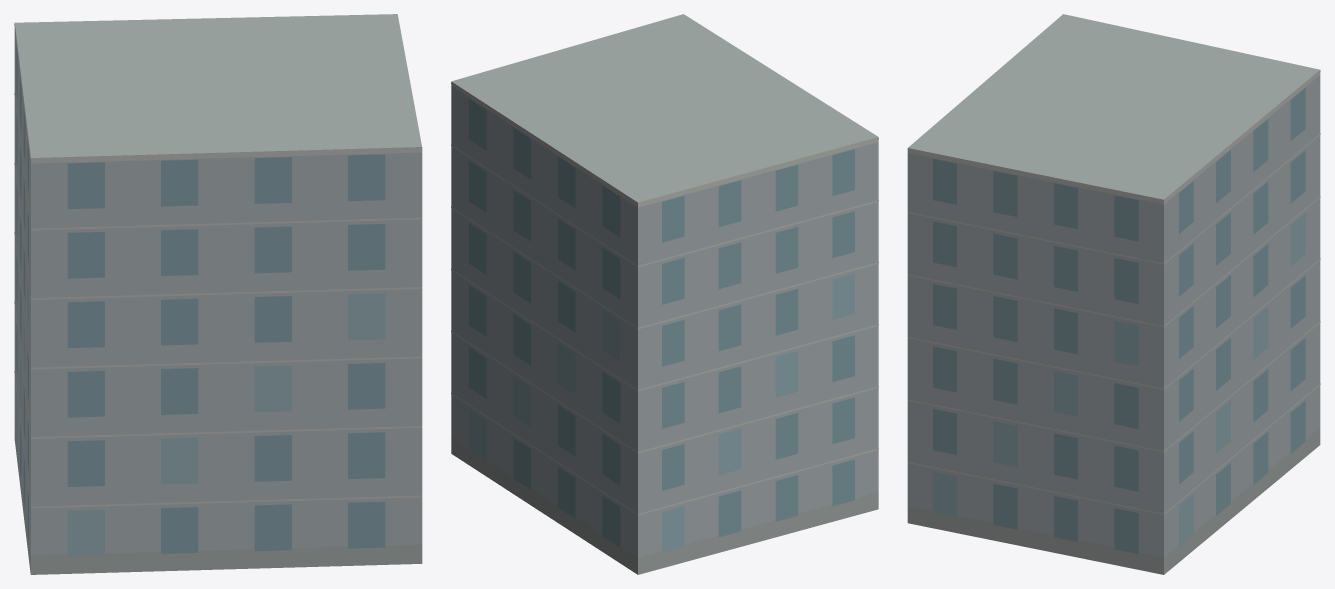
File: survey-upis-32955784.glb
3 views of the same model, side by side, from view 1: azimuth 30°, elevation 25°; view 2: azimuth 150°, elevation 25°; view 3: azimuth 270°, elevation 25° (orthographic). The views are drawn at different scales.
Parts seen in each view (by area): view 1: survey-upis-32955784.tmp; view 2: survey-upis-32955784.tmp; view 3: survey-upis-32955784.tmp.
Boxes of the visible parts, x1,y1,x2,y2 form: survey-upis-32955784.tmp: [14, 14, 422, 574]; survey-upis-32955784.tmp: [451, 14, 878, 574]; survey-upis-32955784.tmp: [907, 14, 1320, 574].
Size of the model in its own units: 19.45 by 18.3 by 18.26.
